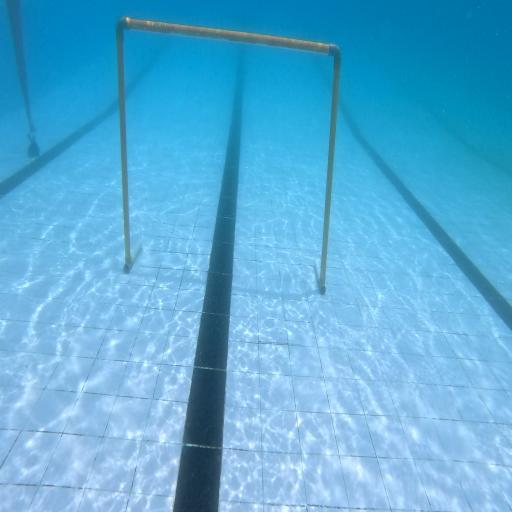gate: (116, 18, 341, 295)
